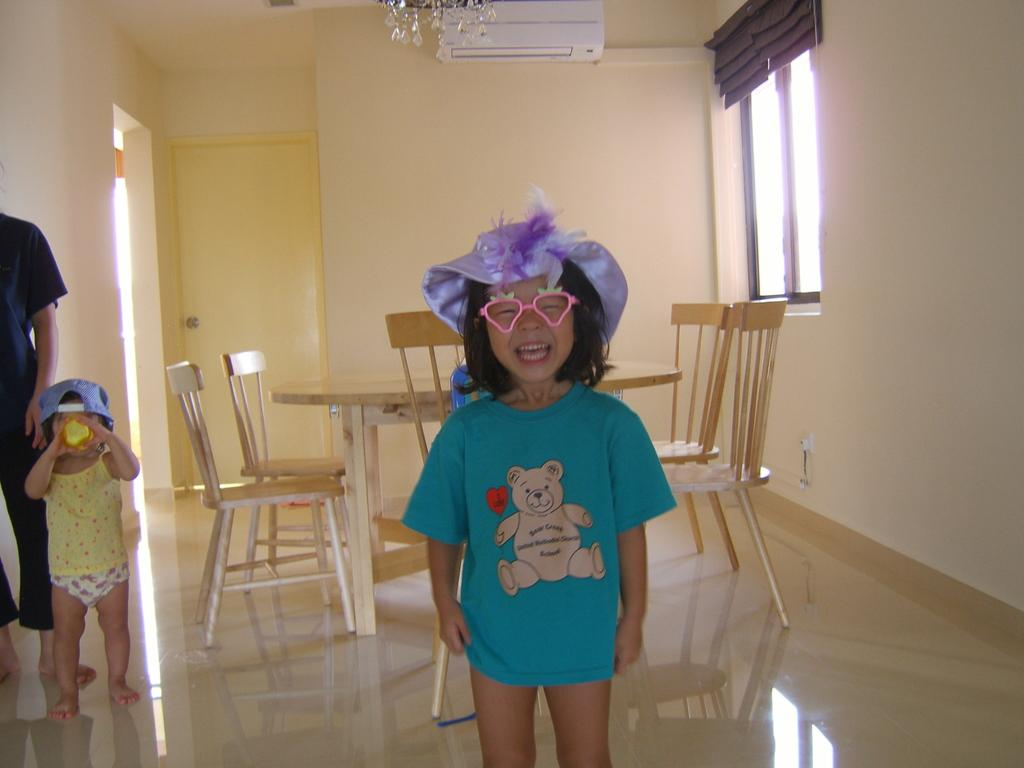Hat: (418, 183, 630, 344), (40, 378, 114, 428)
